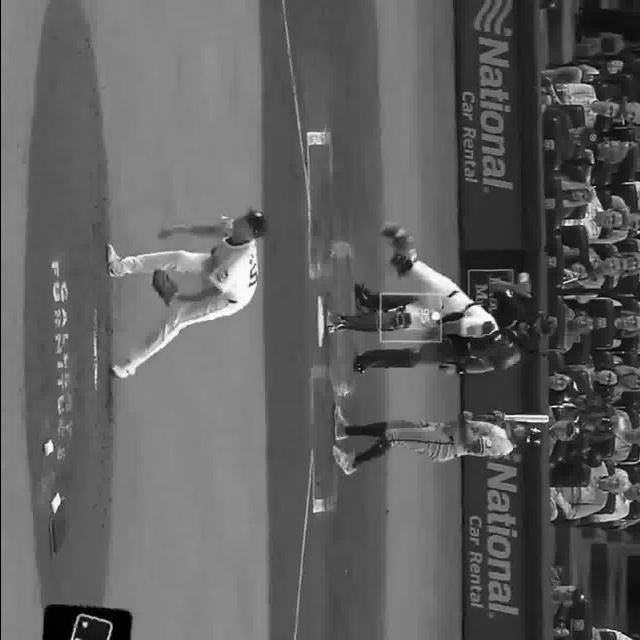base: (312, 293, 324, 349)
baseball: (515, 270, 527, 284)
baseball_glove: (146, 270, 182, 308)
bat: (456, 410, 553, 427)
shoe: (326, 446, 354, 476), (376, 218, 408, 242), (104, 240, 120, 280), (332, 404, 346, 442), (106, 367, 134, 379), (327, 311, 342, 333)
